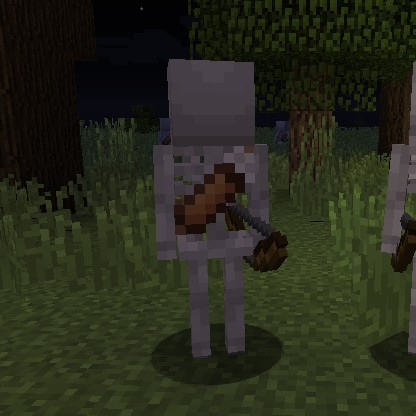skeleton: (155, 48, 283, 199)
